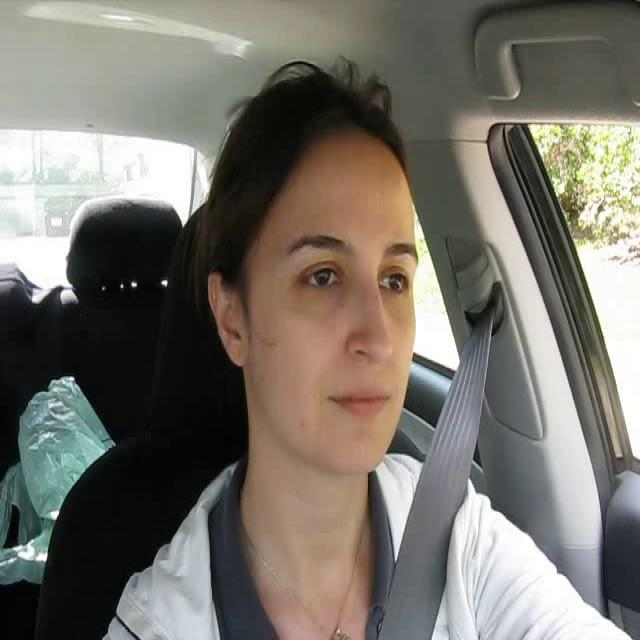close: (324, 380, 398, 429)
